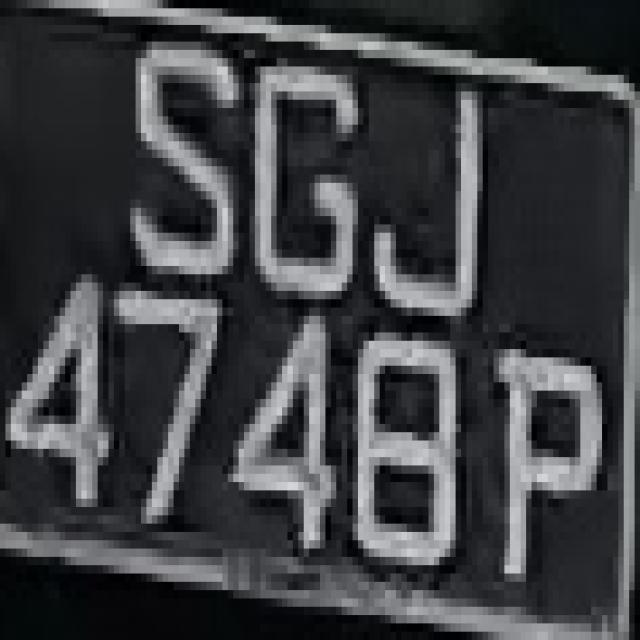4: (11, 224, 125, 524), (239, 283, 358, 565)
7: (120, 216, 233, 540)
8: (336, 291, 466, 573)
G: (239, 50, 385, 307)
J: (380, 66, 526, 332)
P: (472, 300, 613, 598)
S: (103, 17, 239, 291)
